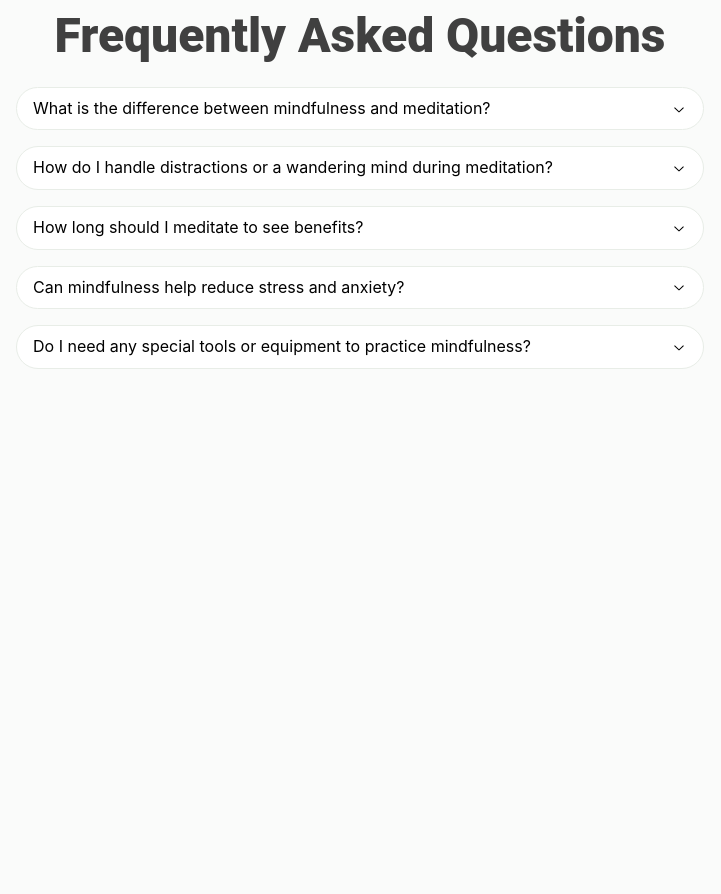
Test: LandingFAQ › Nested Content › renders nested lists in stress section
The image size is (721, 894).
Click the button "Can mindfulness help reduce stress and anxiety?": (360, 287) x1=17 y1=267 x2=703 y2=308
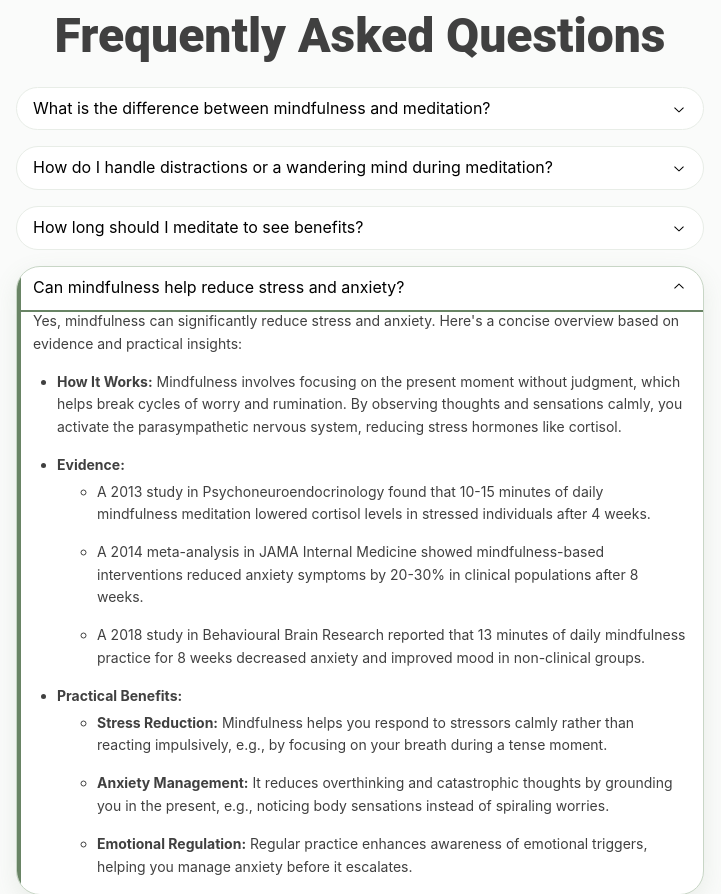
Expected: the text "How It Works:" is shown, x1=57 y1=373 x2=153 y2=390
